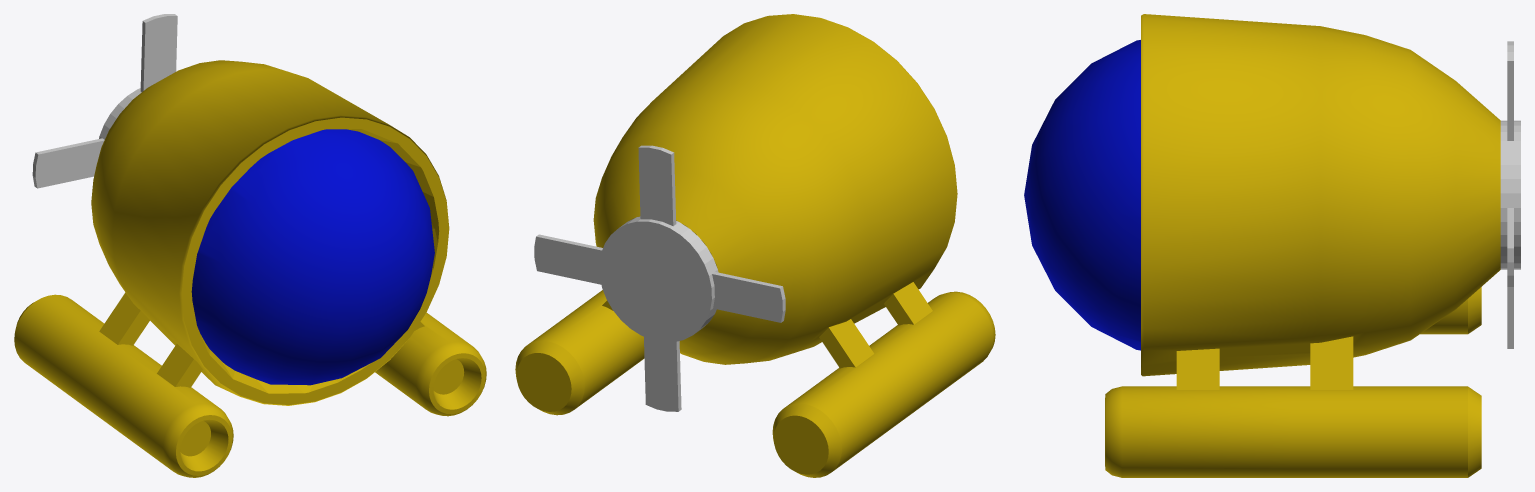
Rendered from submarine_full.obj.
3 views of the same model, side by side, from view 1: azimuth 30°, elevation 25°; view 2: azimuth 150°, elevation 25°; view 3: azimuth 270°, elevation 25° (orthographic). The views are drawn at different scales.
Parts seen in each view (by area): view 1: Main_Cylinder.002, Cylinder; view 2: Main_Cylinder.002, Cylinder; view 3: Main_Cylinder.002, Cylinder.
Part boxes in pixels (left/top/right/bottom): Main_Cylinder.002: left=14, top=60, right=486, bottom=477; Cylinder: left=32, top=14, right=177, bottom=188; Main_Cylinder.002: left=515, top=14, right=995, bottom=477; Cylinder: left=534, top=145, right=785, bottom=411; Main_Cylinder.002: left=1024, top=14, right=1500, bottom=477; Cylinder: left=1500, top=41, right=1520, bottom=348.
Bounding box in the file's own units: 2.4 × 2.28 × 2.76.
